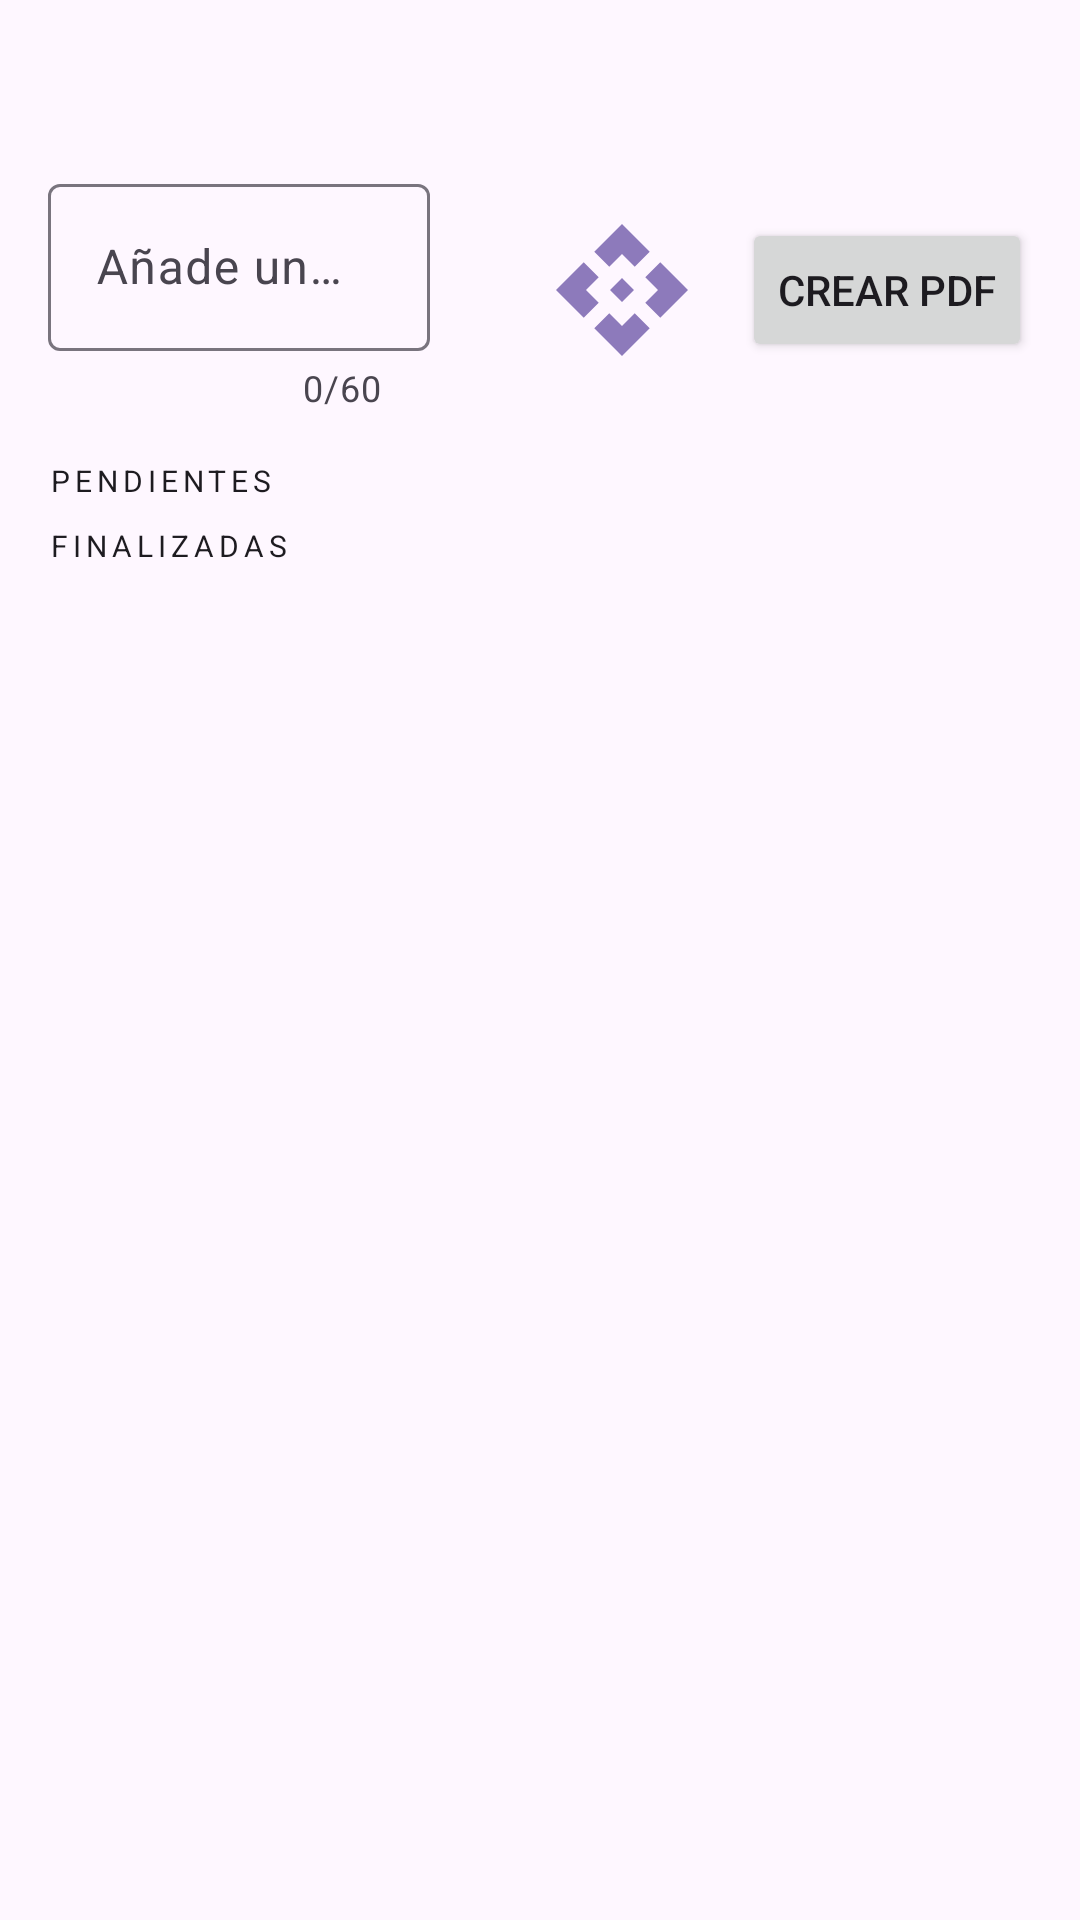

Screen size 1080 × 1920. Icon name, then its center in pixels as (x,y):
api: (622,290)
